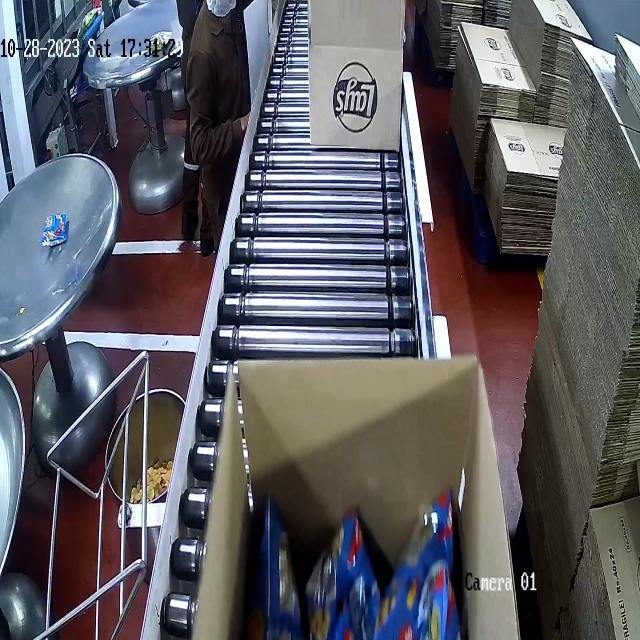PAPRIKA: (253, 485, 488, 640)
